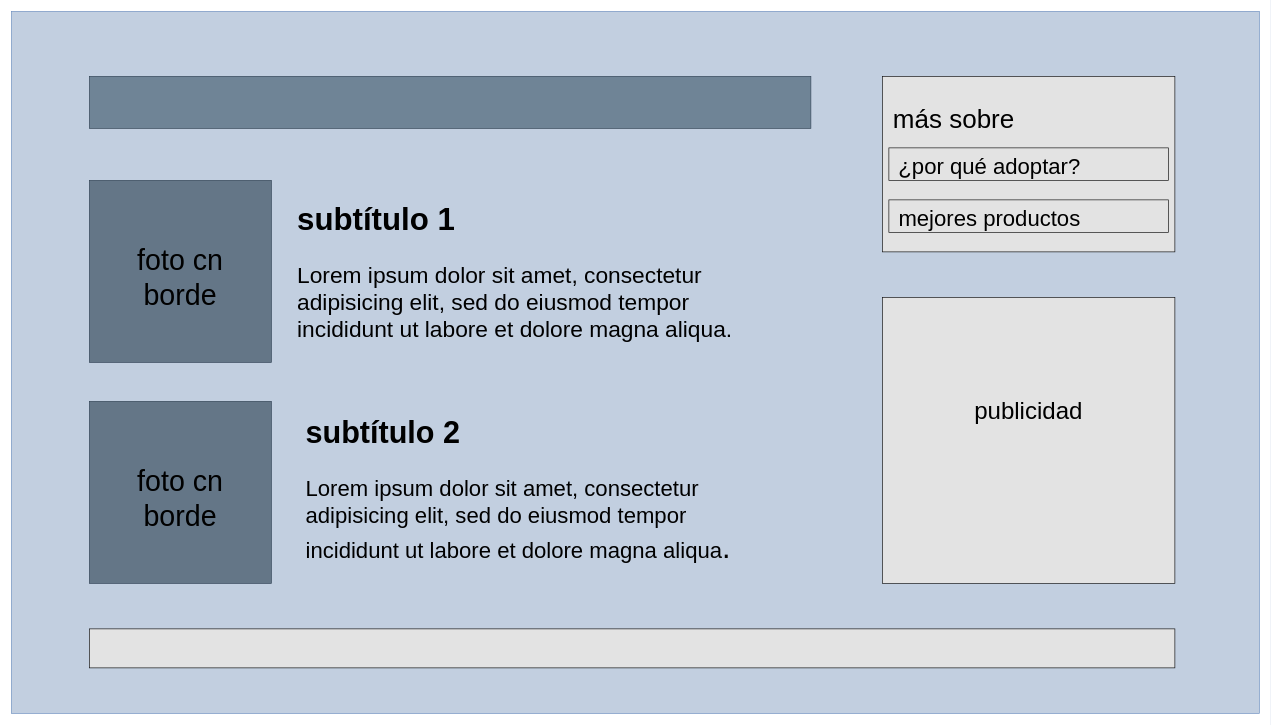
The diagram is 1271 pixels wide and 725 high, and some of its shapes have lost their labels. Here are the shapes that lost their labels. From the top down, the centre of each, then its label:
At pixel 450 102: "título".
At pixel 632 648: "pie de página".
